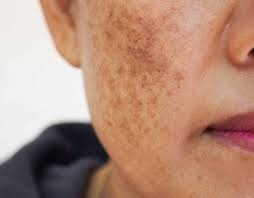Melasma: (85, 6, 192, 139)
